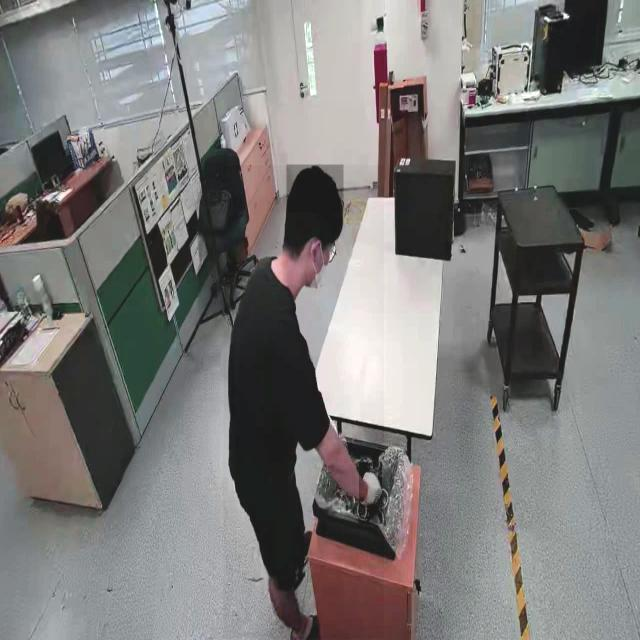hand_glove: (358, 462, 382, 524)
head_nohelmet: (286, 164, 344, 213)
person: (223, 165, 384, 639)
